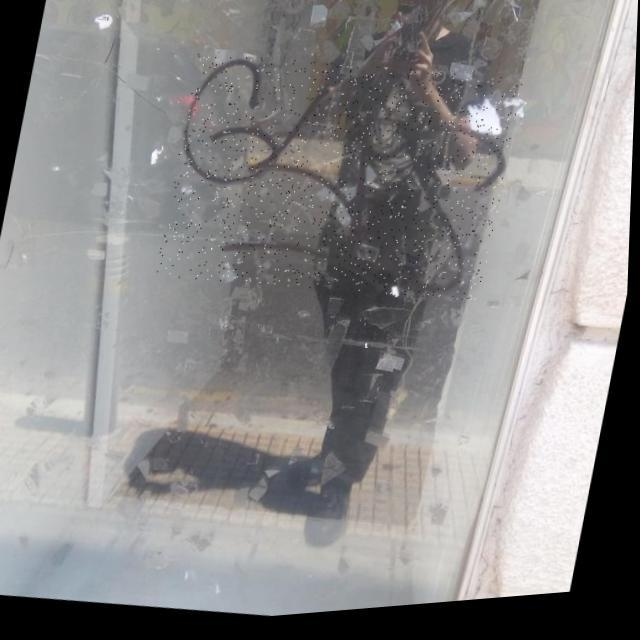-: (156, 36, 526, 331)
